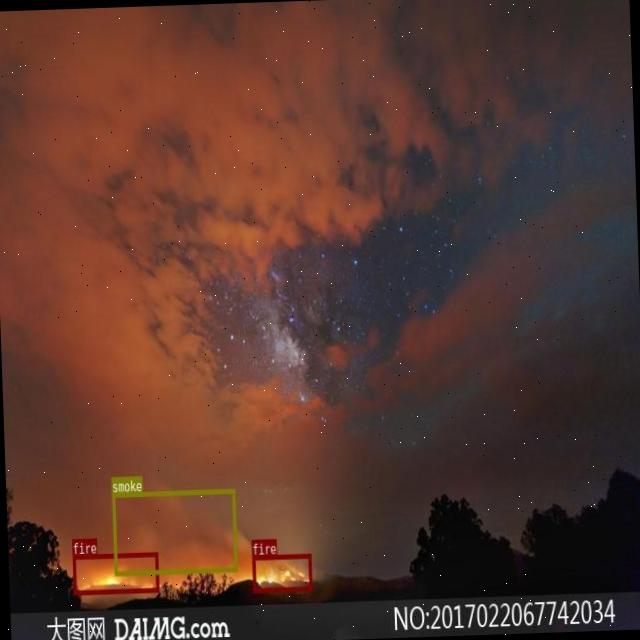fire: (72, 551, 158, 594), (252, 552, 312, 592)
smoke: (111, 488, 237, 574)
